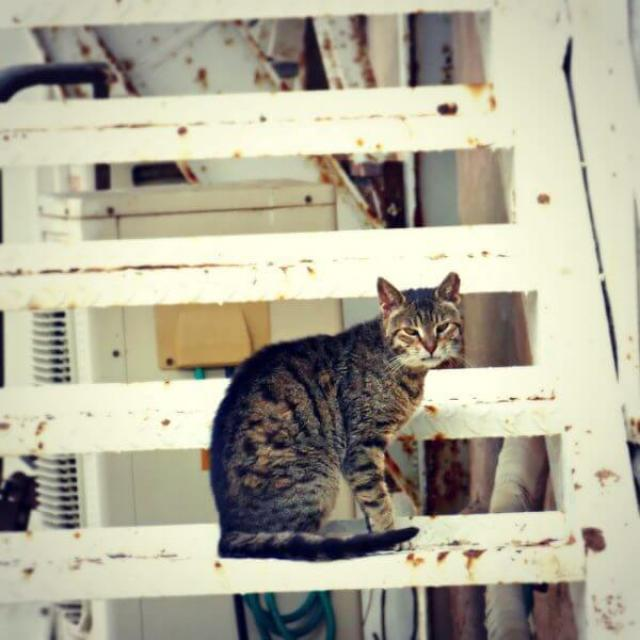cat: (210, 272, 460, 559)
